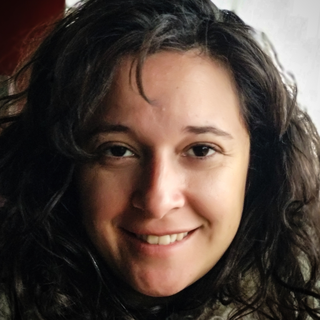eye: (172, 135, 230, 167), (91, 138, 147, 169)
